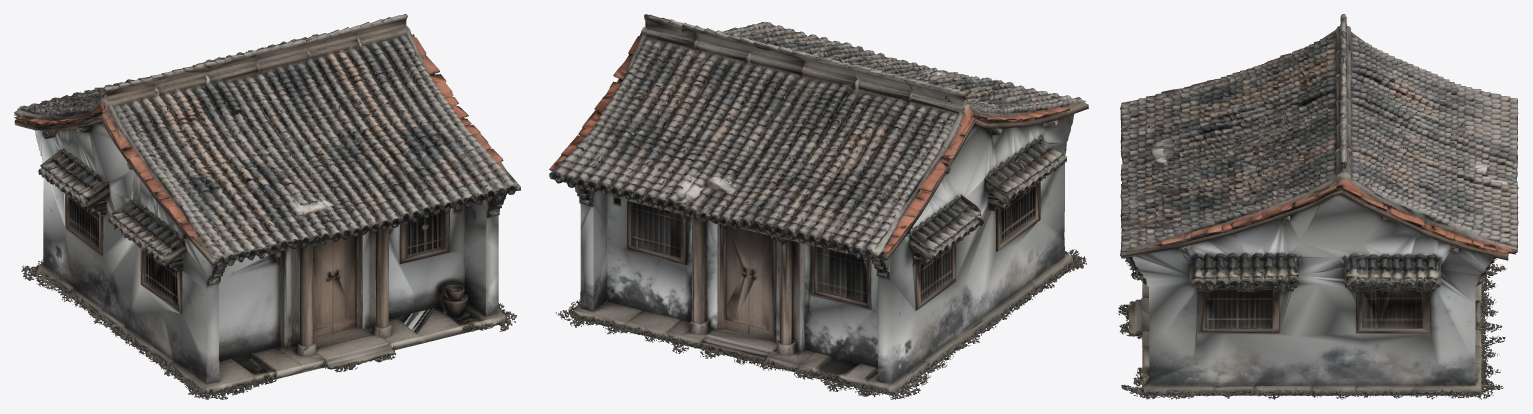
File: bq_house_tiled.hd.glb
The picture shows the model from 3 angles, left to right: view 1: azimuth 30°, elevation 25°; view 2: azimuth 150°, elevation 25°; view 3: azimuth 270°, elevation 25°; orthographic projection. The views are drawn at different scales.
Bounding box in the file's own units: 1.96 × 1.29 × 2.
1 material, 1 textured.
